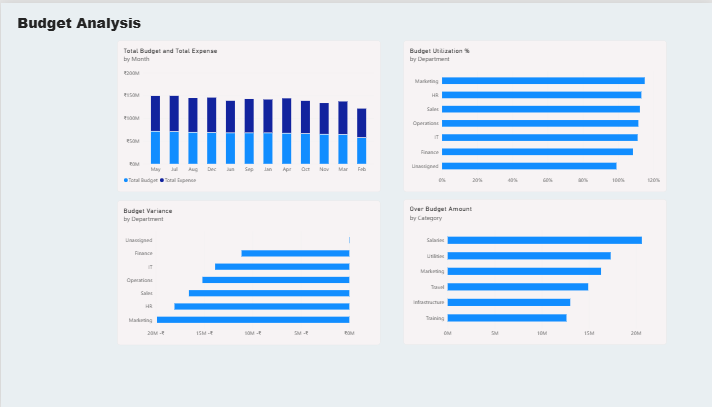

The dashboard page shown, as its layout file describes it:
{"tool":"powerbi","page":{"name":"Page 3","canvas":[1900,1080],"ordinal":2},"visuals":[{"type":"textbox","box":[42,26,378,84],"z":0},{"type":"columnChart","fields":{"Category":["DateTable.Month"],"Y":["Financial_Expenses.Total Budget","Financial_Expenses.Total Expense"]},"box":[310,100,702,404],"z":1000},{"type":"barChart","fields":{"Category":["Financial_Expenses.Department"],"Y":["Financial_Expenses.Budget Variance"]},"box":[310,526,701.7,385.8],"z":2000},{"type":"barChart","fields":{"Category":["Financial_Expenses.Department"],"Y":["Financial_Expenses.Budget Utilization %"]},"box":[1074,100,701.7,404.2],"z":3000},{"type":"barChart","fields":{"Category":["Financial_Expenses.Category"],"Y":["Financial_Expenses.Over Budget Amount"]},"box":[1074,524,701.7,388.3],"z":4000}]}

Visuals, with their boxes in screenshot pixels (x1, y1, x2, y2), scaled from the page's 1900x1080 canvas onto the 712x407 screenshot:
textbox: 16/10/157/41
columnChart - DateTable.Month x Financial_Expenses.Total Budget: 116/38/379/190
barChart - Financial_Expenses.Department x Financial_Expenses.Budget Variance: 116/198/379/344
barChart - Financial_Expenses.Department x Financial_Expenses.Budget Utilization %: 402/38/665/190
barChart - Financial_Expenses.Category x Financial_Expenses.Over Budget Amount: 402/197/665/344
